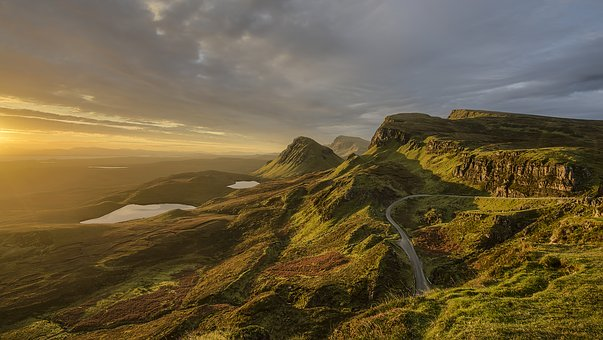mountain: (26, 148, 594, 340)
sky: (6, 7, 592, 158)
